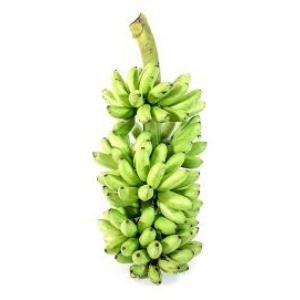banana_brain food: (93, 78, 213, 254)
